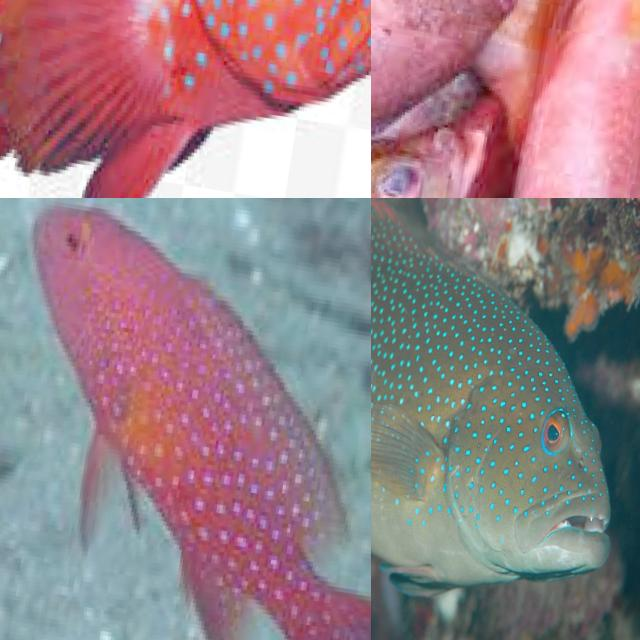Plectropomus-leopardus: (0, 198, 371, 640), (371, 198, 640, 624), (0, 0, 371, 198), (371, 0, 636, 198)
